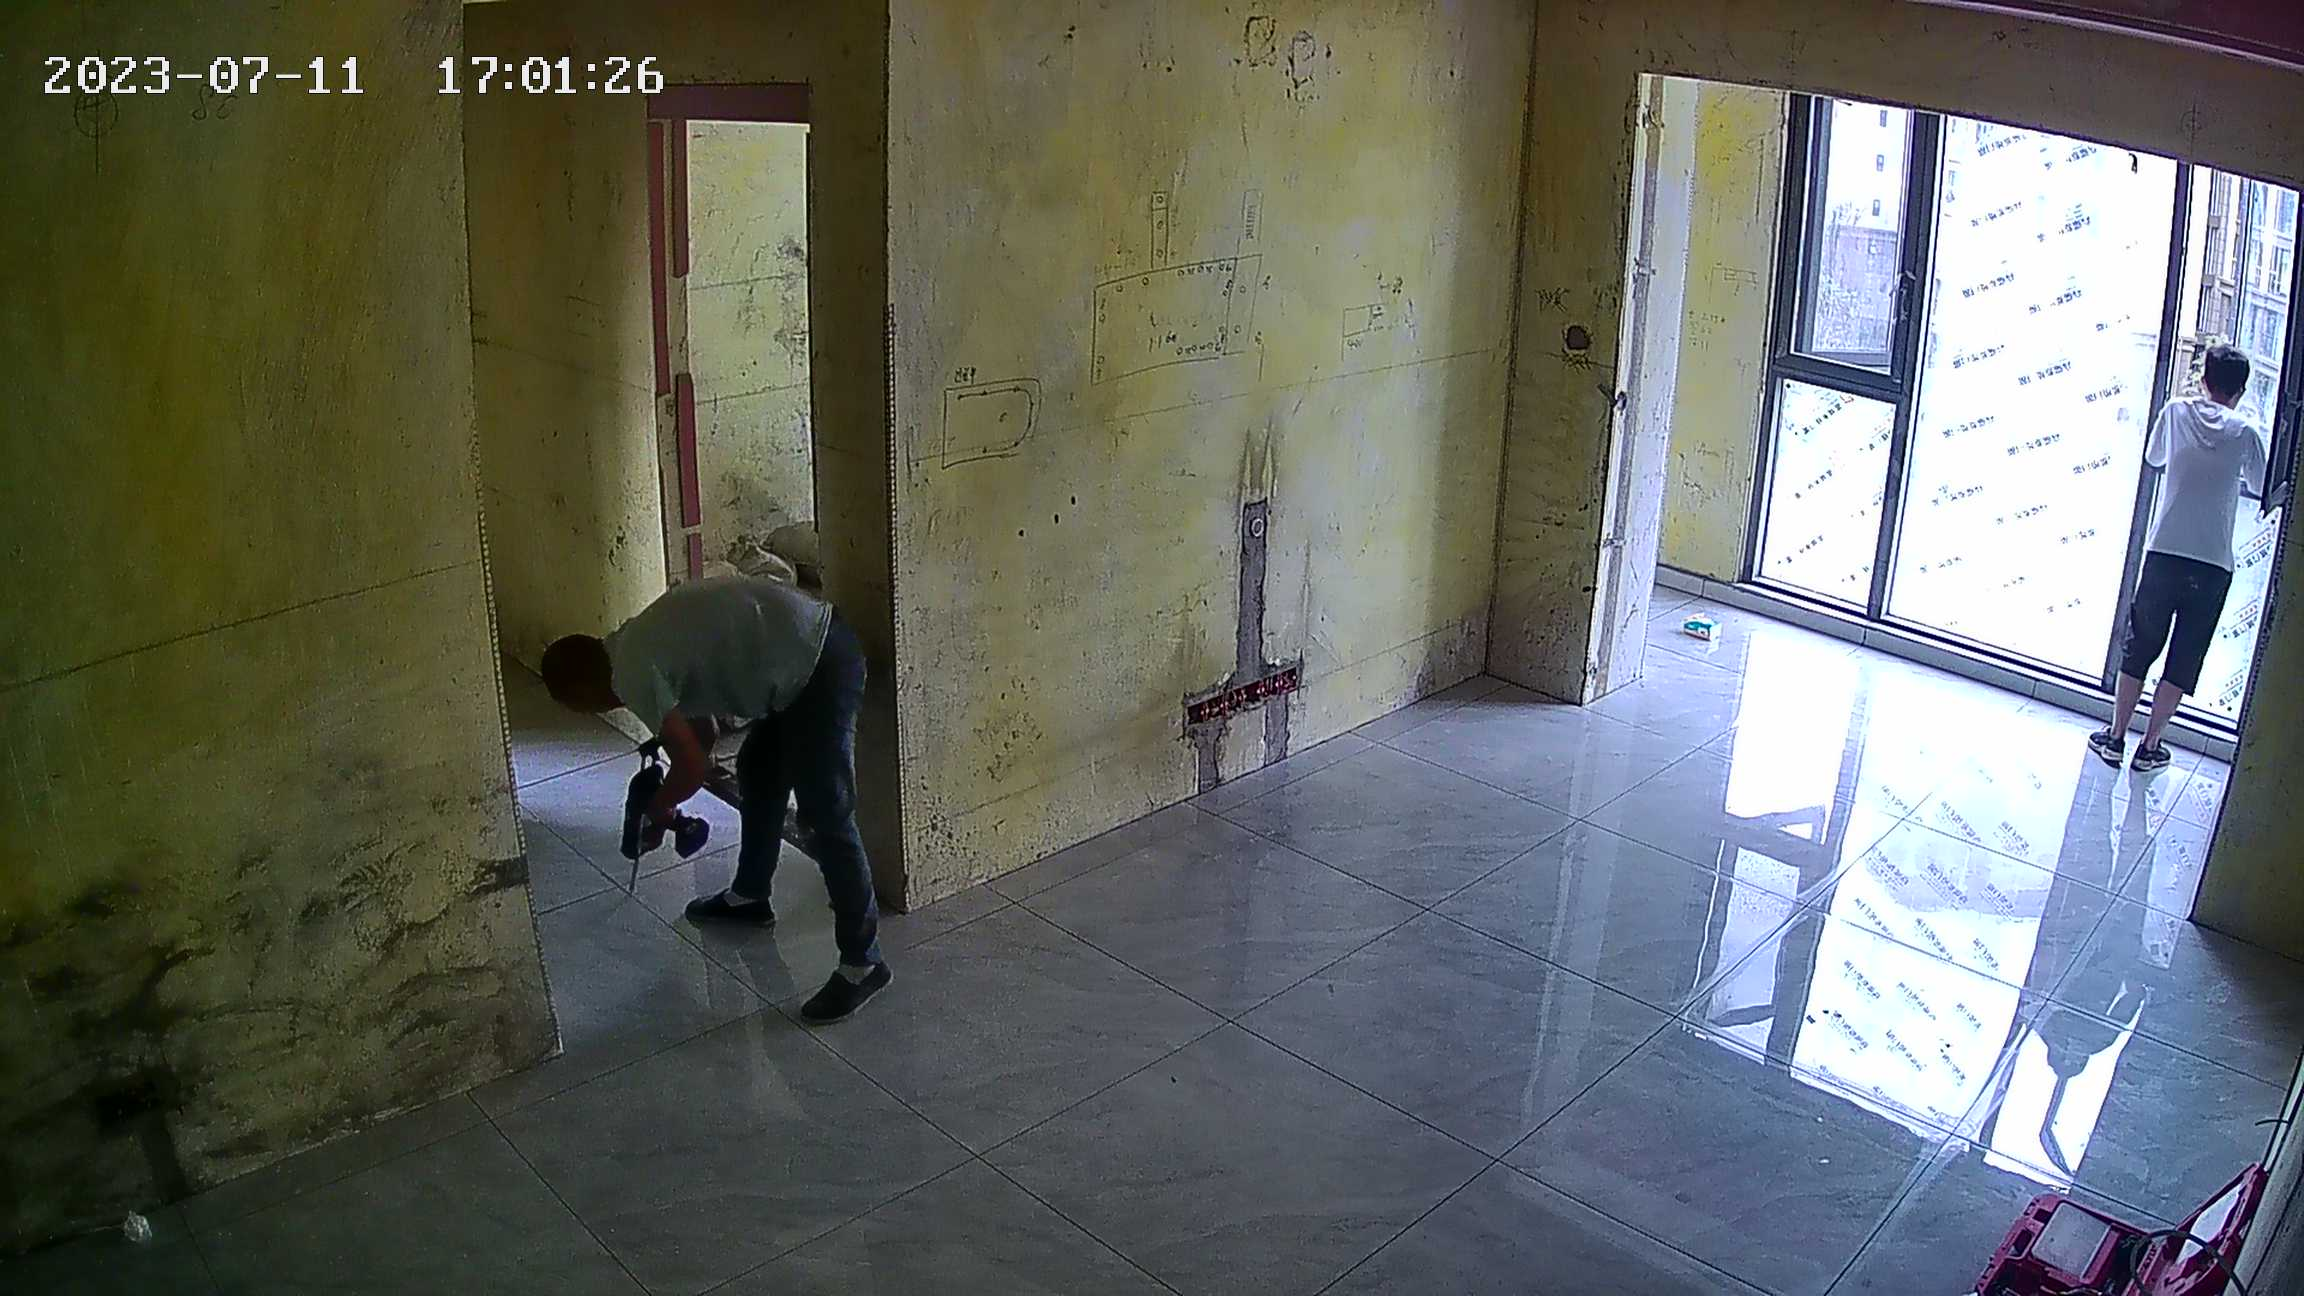people: (543, 568, 895, 1034), (2097, 342, 2270, 781)
window: (1762, 84, 2289, 740)
